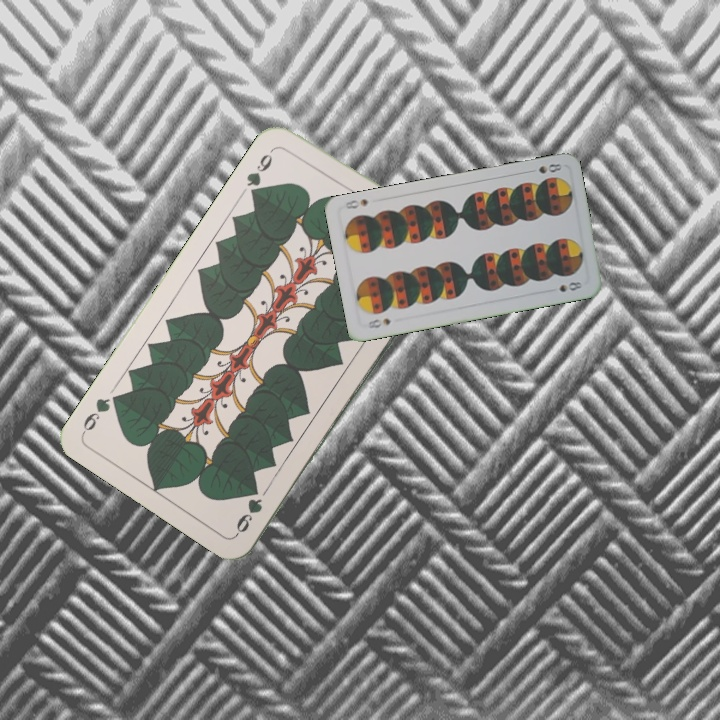G9: (242, 143, 280, 199), (231, 494, 265, 538)
S8: (524, 159, 564, 176), (363, 314, 393, 331)
